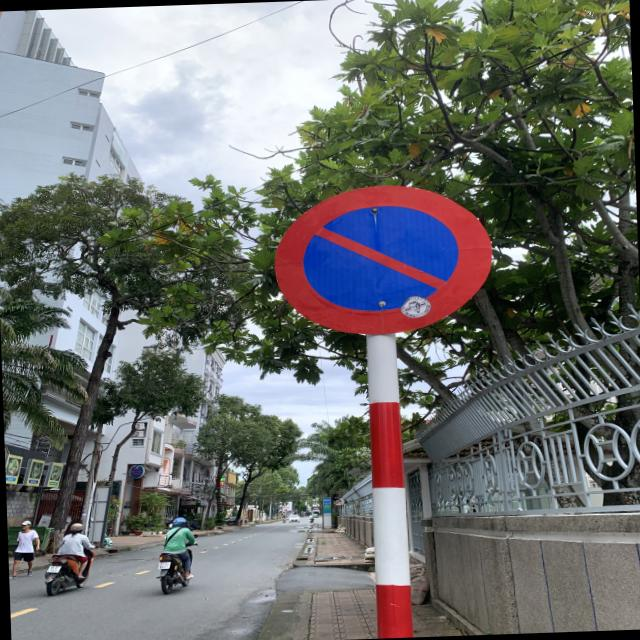Cam_Dau_Xe: (272, 182, 498, 338)
